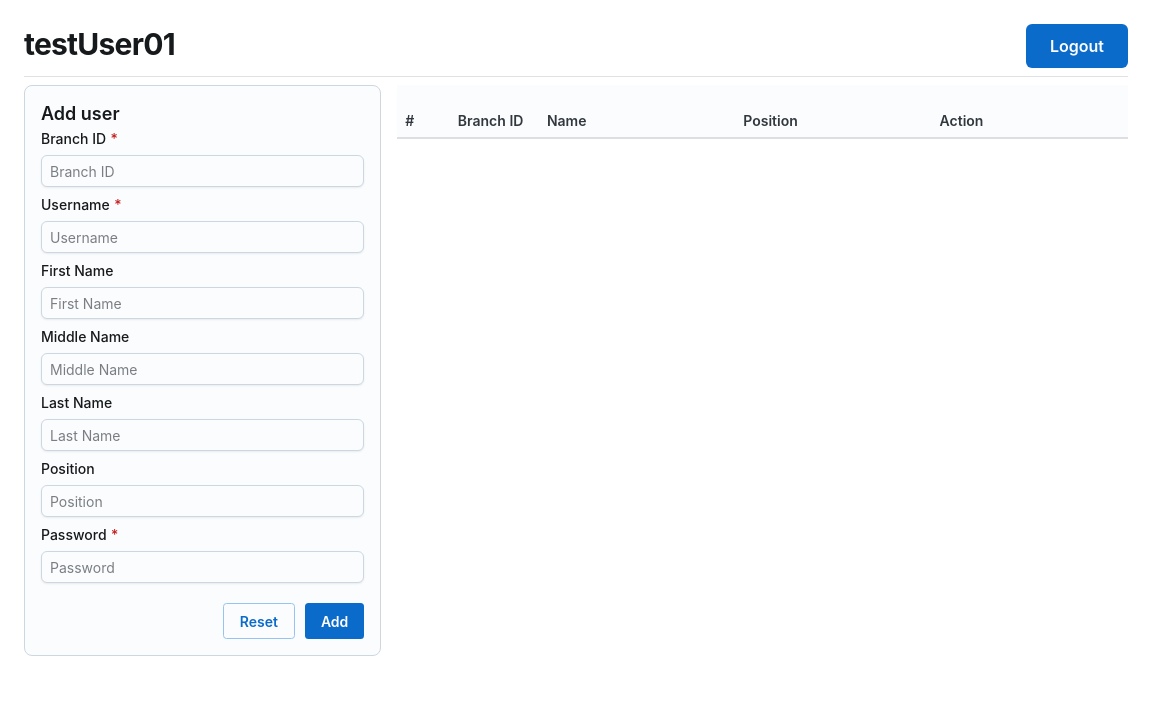
Scenario: <Dashboard /> › handleSubmit() › success adding user
Type "20001" into the number field named "branchId".
click(203, 171); type("20001")  # box [50,156,355,186]
Type "testuser201" into the field labelled "Username".
click(203, 237); type("testuser201")  # box [50,222,355,252]
Type "Jessa" into the field named "firstName".
click(203, 303); type("Jessa")  # box [50,288,355,318]
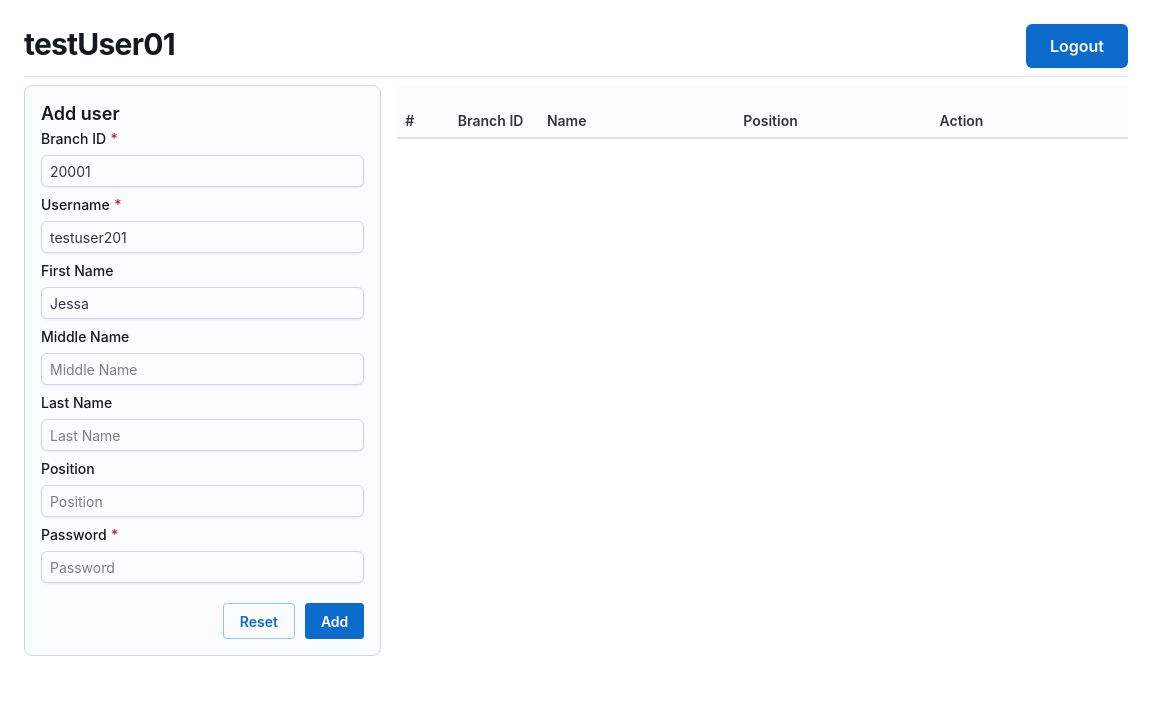
Type "C" into the field named "middleName".
click(203, 369); type("C")  # box [50,354,355,384]
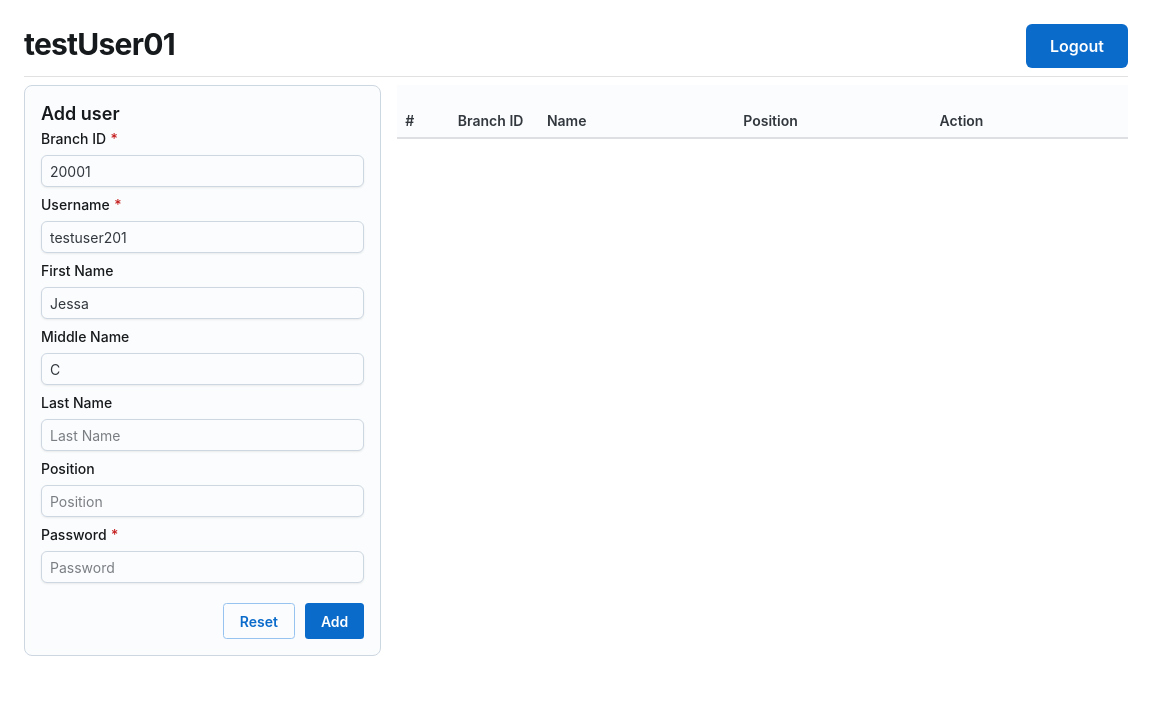
Type "Meek" into the field named "lastName".
click(203, 435); type("Meek")  # box [50,420,355,450]
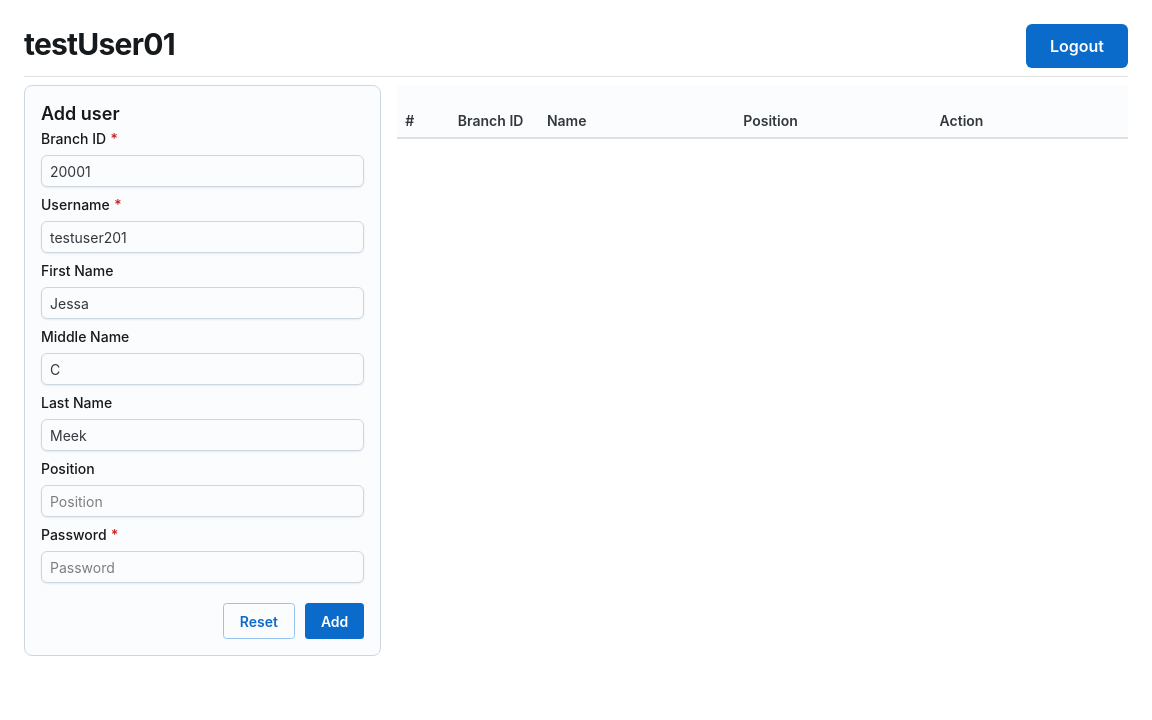
Type "Software Tester" into the field labelled "Position".
click(203, 501); type("Software Tester")  # box [50,486,355,516]
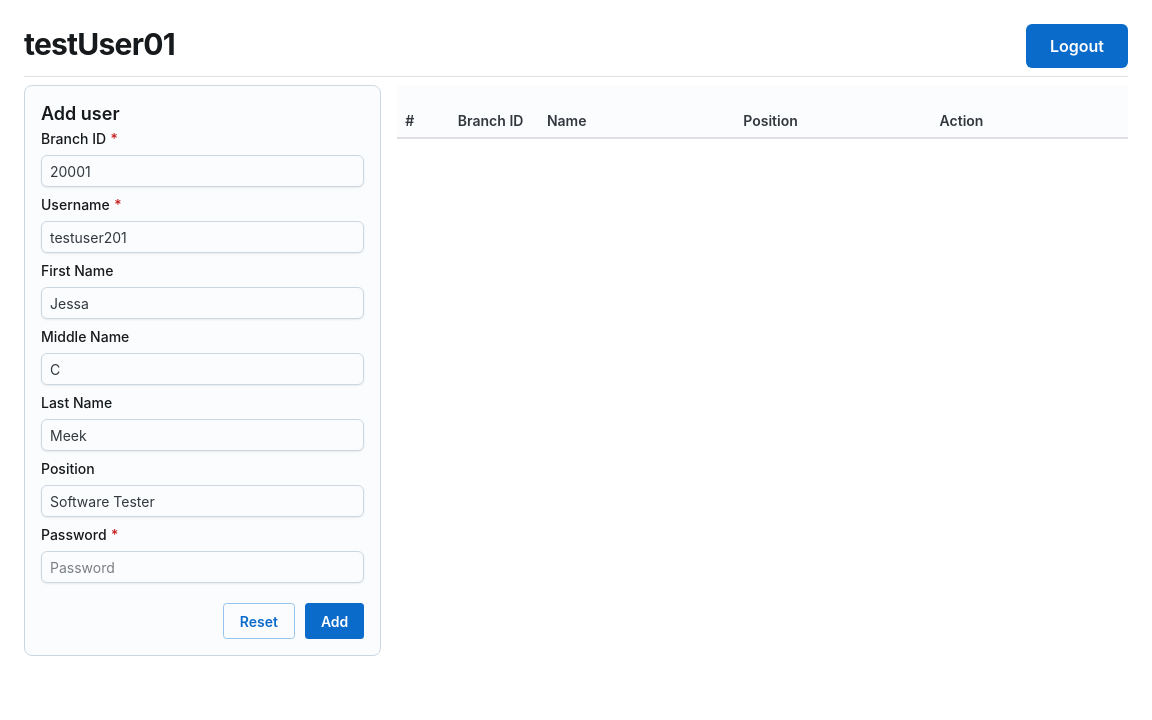
Type "pa55w0rd001" into the password field labelled "Password".
click(203, 567); type("pa55w0rd001")  # box [50,552,355,582]
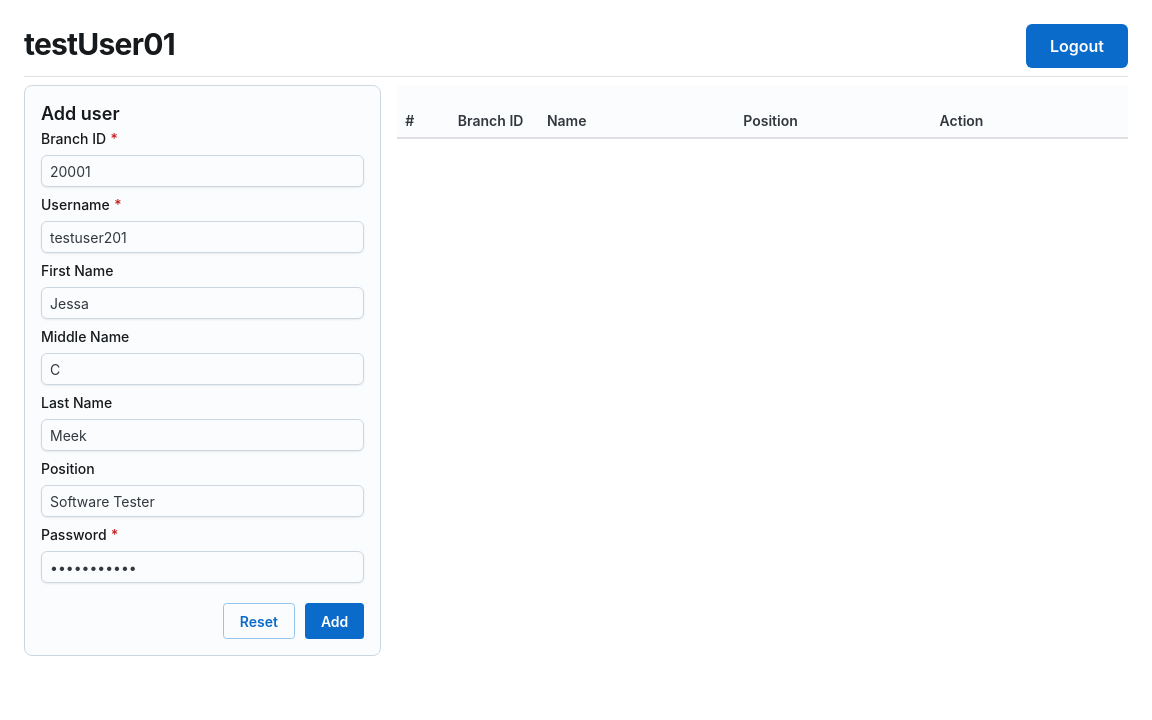
Click the button with aria-label "addUser".
click(335, 621)  # box [305,603,364,639]
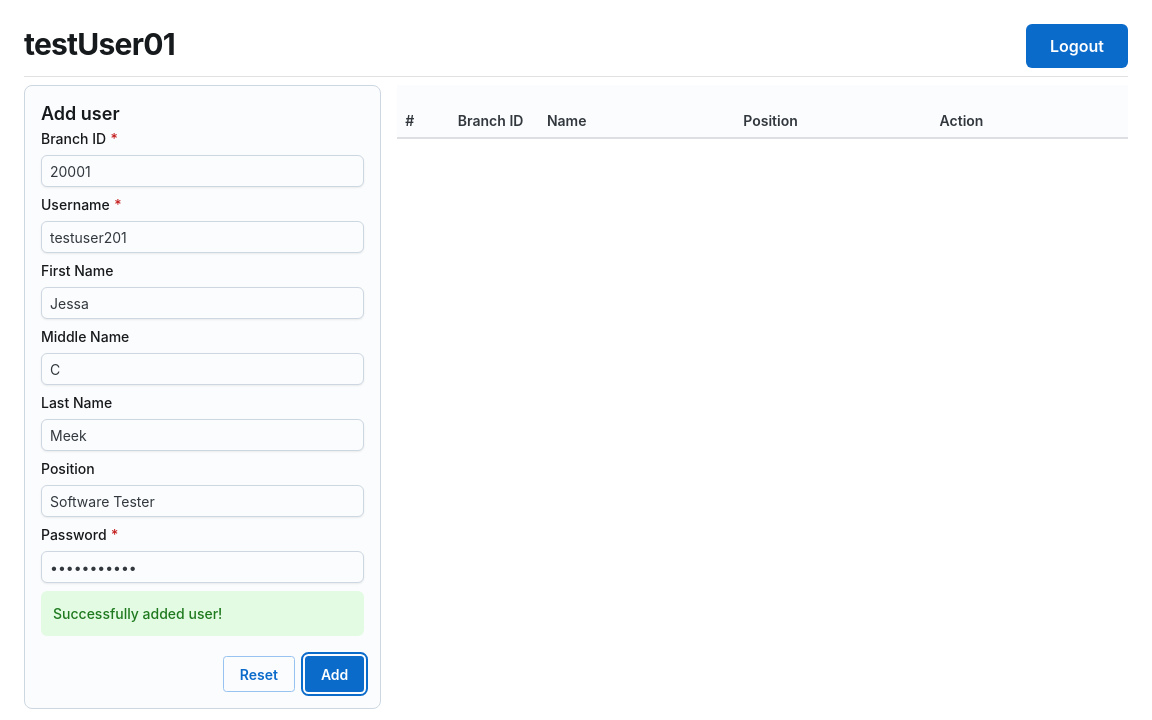
Now the text "Successfully added user!" is shown, box [53,603,222,624]
